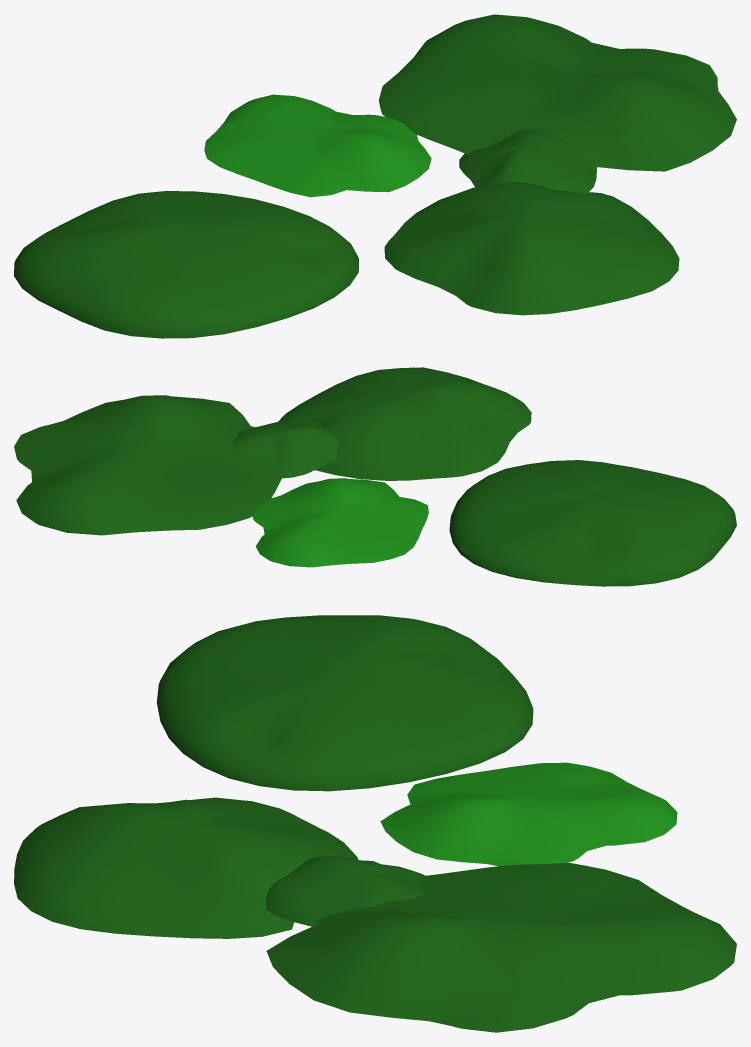
File: AGround.fbx
3 renders of one model, top to bottom at view 1: azimuth 30°, elevation 25°; view 2: azimuth 150°, elevation 25°; view 3: azimuth 270°, elevation 25°, orthographic. The views are drawn at different scales.
Visible parts, largest first — view 1: Ground.009, Ground.007, Ground.008, Ground.003, Ground.010; view 2: Ground.007, Ground.009, Ground.008, Ground.003, Ground.010; view 3: Ground.007, Ground.009, Ground.008, Ground.003, Ground.010.
Part boxes in pixels (x1,y1,x2,y2): Ground.009: [14, 191, 358, 338]; Ground.007: [378, 14, 736, 171]; Ground.008: [384, 182, 679, 315]; Ground.003: [204, 94, 431, 197]; Ground.010: [459, 129, 596, 193]; Ground.007: [14, 395, 284, 535]; Ground.009: [449, 460, 736, 586]; Ground.008: [278, 367, 531, 480]; Ground.003: [252, 478, 428, 567]; Ground.010: [231, 419, 339, 478]; Ground.007: [266, 863, 736, 1032]; Ground.009: [156, 615, 533, 791]; Ground.008: [14, 797, 358, 938]; Ground.003: [380, 762, 677, 866]; Ground.010: [265, 856, 424, 926].
Size of the model in its own units: 1361 by 988 by 87.49.
